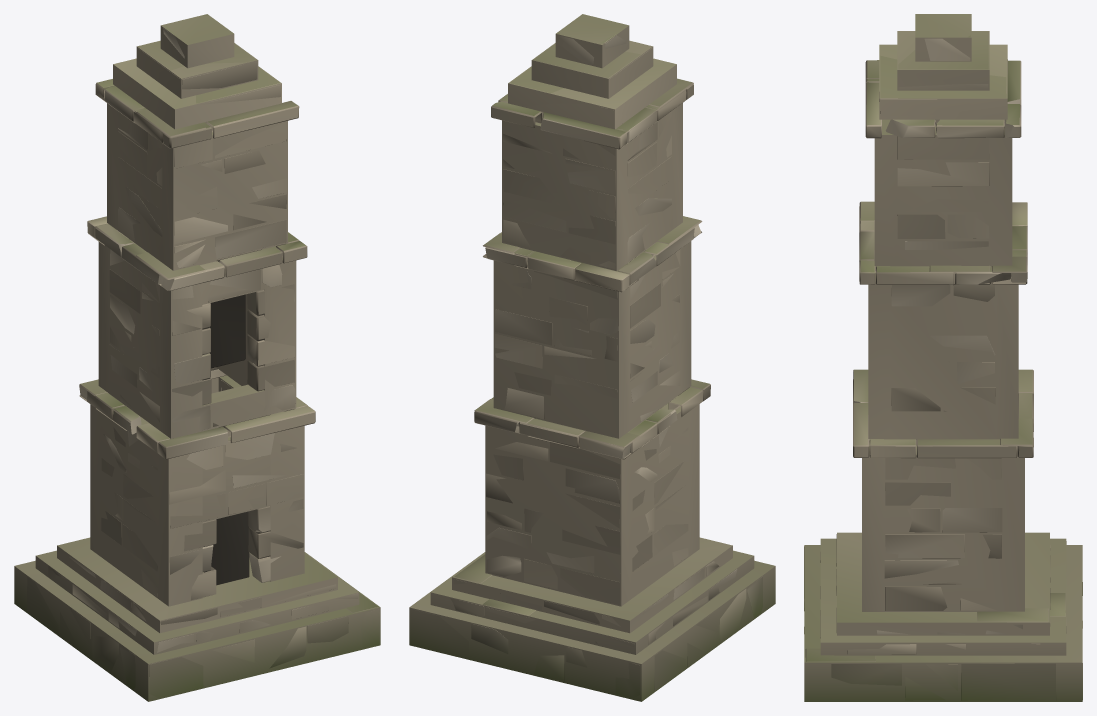
The model's file is tombs_tower.glb.
The picture shows the model from 3 angles, left to right: view 1: azimuth 30°, elevation 25°; view 2: azimuth 150°, elevation 25°; view 3: azimuth 270°, elevation 25°; orthographic projection. The views are drawn at different scales.
Visible parts, largest first — view 1: tombs_tower_far, tombs_tower; view 2: tombs_tower_far, tombs_tower; view 3: tombs_tower_far, tombs_tower.
Boxes of the visible parts, box(x1,y1,x2,y2) form: tombs_tower_far: box(14, 14, 380, 701); tombs_tower: box(27, 14, 379, 698); tombs_tower_far: box(409, 14, 775, 701); tombs_tower: box(410, 32, 762, 698); tombs_tower_far: box(804, 14, 1082, 701); tombs_tower: box(804, 14, 1082, 700).
Size of the model in its own units: 15.42 by 37.69 by 15.42.
